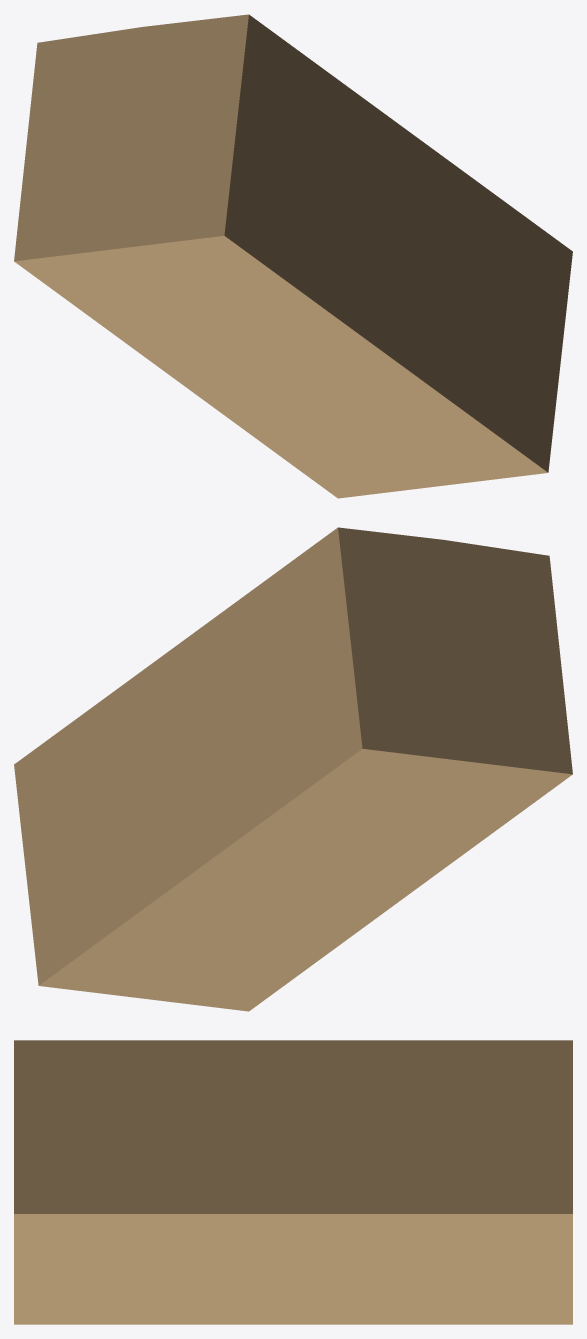
3 renders of one model, top to bottom at view 1: azimuth 30°, elevation 25°; view 2: azimuth 150°, elevation 25°; view 3: azimuth 270°, elevation 25°, orthographic. The views are drawn at different scales.
Parts seen in each view (by area): view 1: 0_0_3_1_3_3_2_2_2_0_3; view 2: 0_0_3_1_3_3_2_2_2_0_3; view 3: 0_0_3_1_3_3_2_2_2_0_3.
Boxes of the visible parts, <box> form: 0_0_3_1_3_3_2_2_2_0_3: <box>14,14,572,498</box>; 0_0_3_1_3_3_2_2_2_0_3: <box>14,527,572,1011</box>; 0_0_3_1_3_3_2_2_2_0_3: <box>14,1040,572,1324</box>.
Size of the model in its own units: 10.05 by 9.75 by 24.
